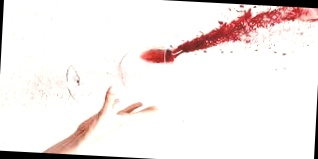wine: (153, 2, 318, 76)
